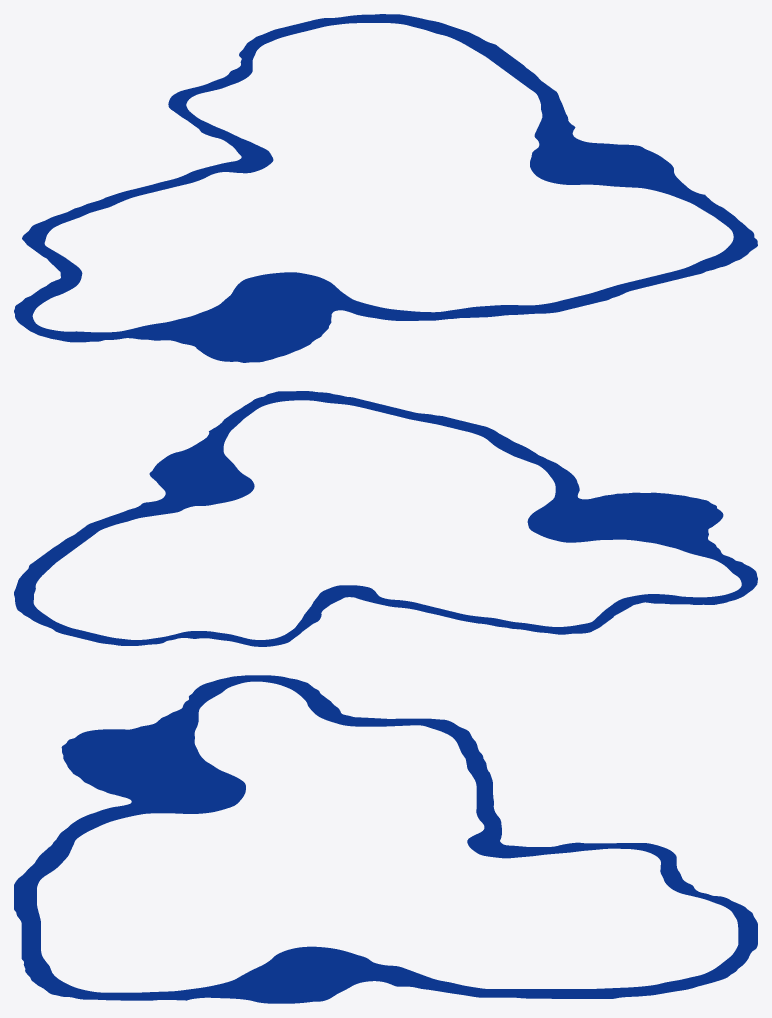
File: water.fbx
The picture shows the model from 3 angles, top to bottom: view 1: azimuth 30°, elevation 25°; view 2: azimuth 150°, elevation 25°; view 3: azimuth 270°, elevation 25°; orthographic projection. The views are drawn at different scales.
Parts seen in each view (by area): view 1: water; view 2: water; view 3: water.
Boxes of the visible parts, x1,y1,x2,y2 form: water: (14, 14, 757, 362); water: (14, 391, 757, 646); water: (14, 675, 757, 1003).
Size of the model in its own units: 91355 by 5.36e-12 by 87474.
